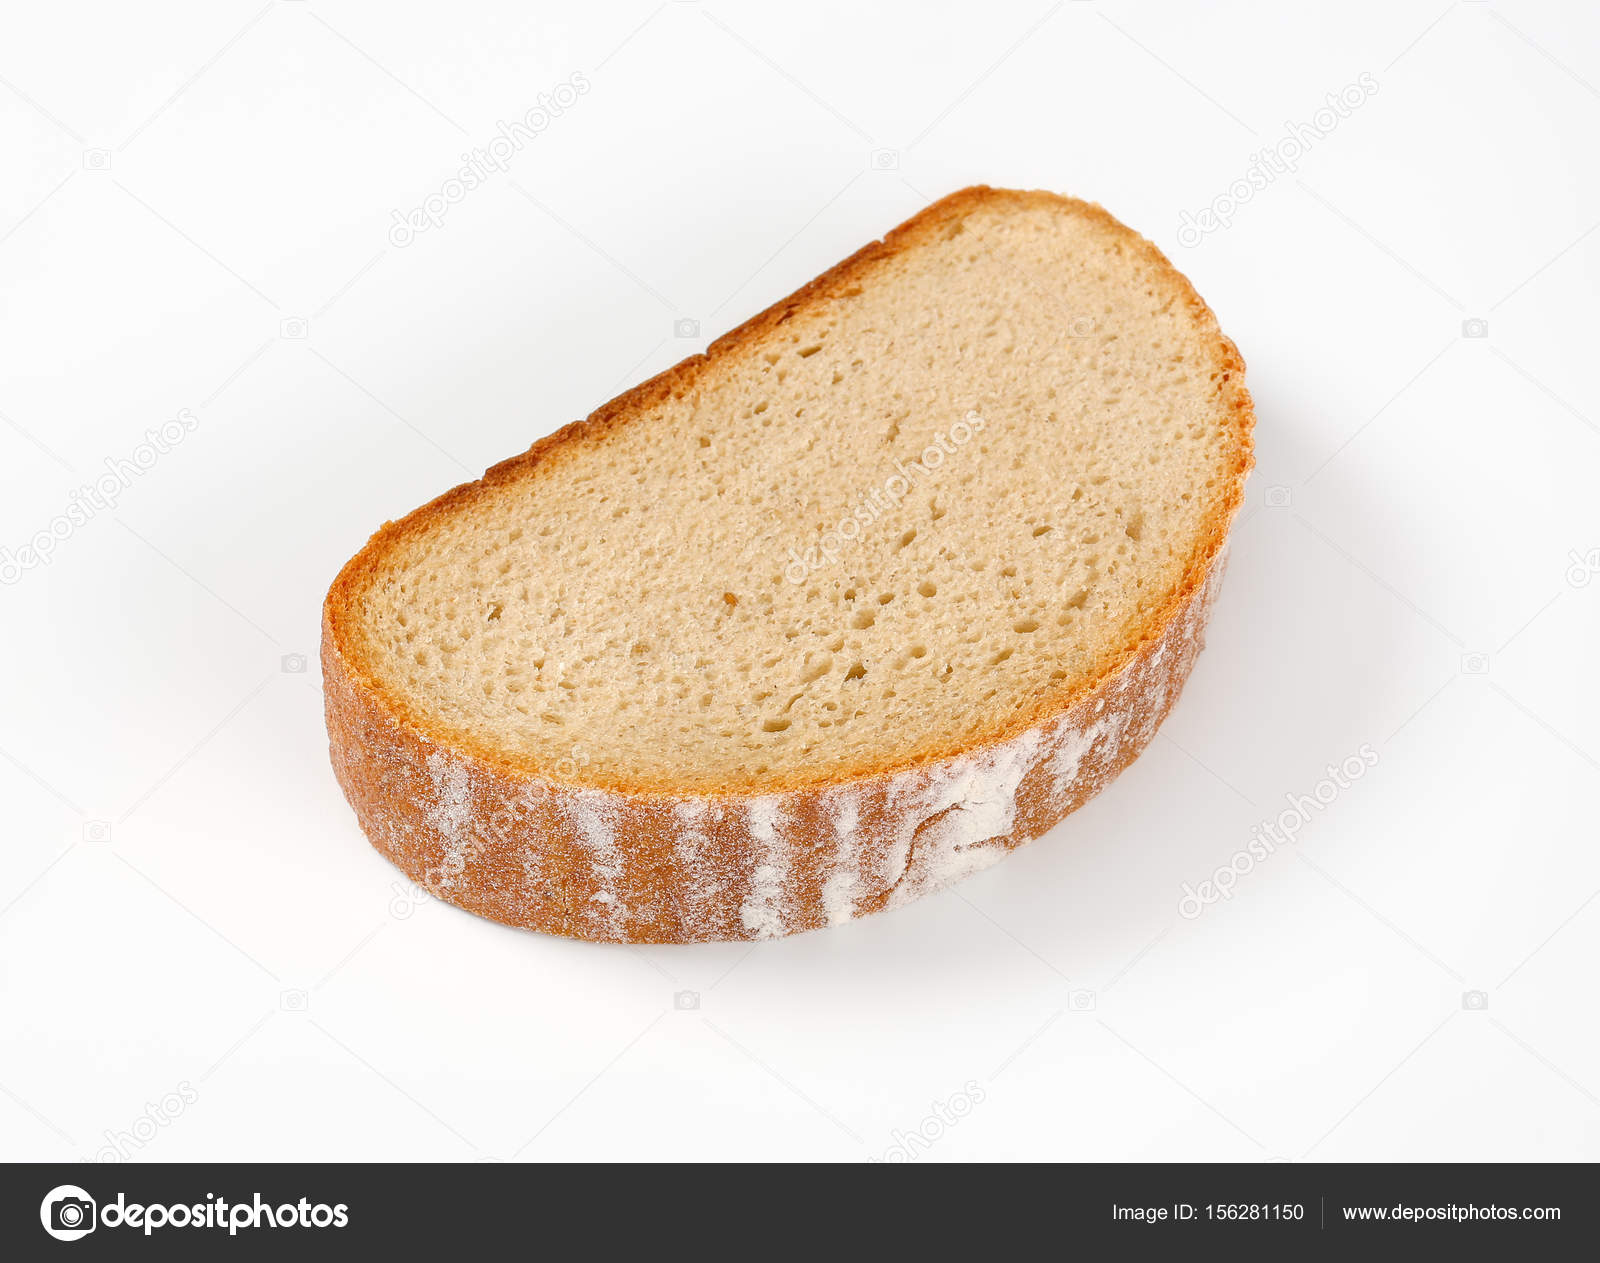slice of bread: (344, 231, 1292, 919)
